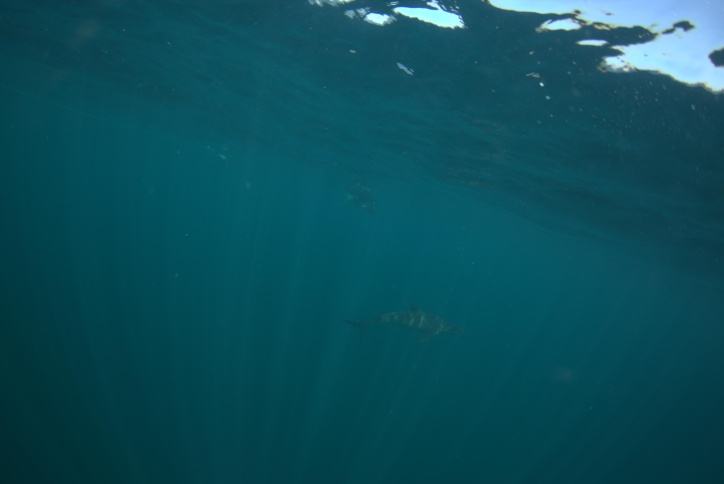Sedoso: (325, 301, 465, 343)
